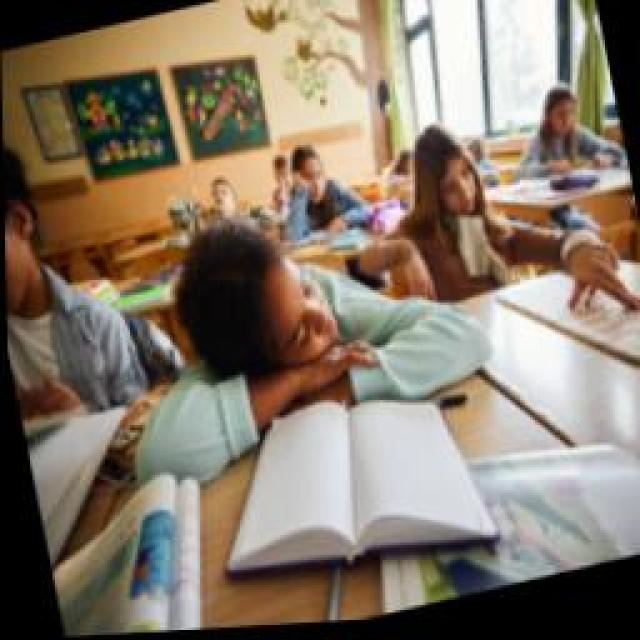sleep: (95, 185, 500, 460), (500, 70, 628, 198)
